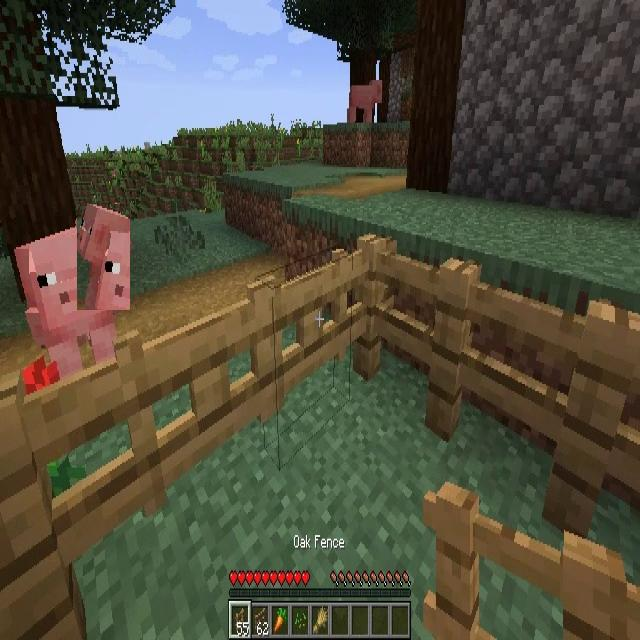pig: (12, 224, 118, 385), (77, 204, 130, 310)
